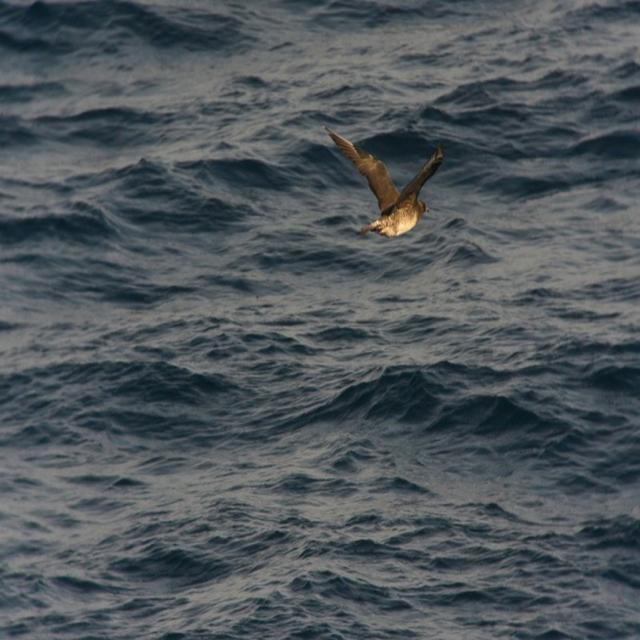bird: (326, 131, 448, 239)
